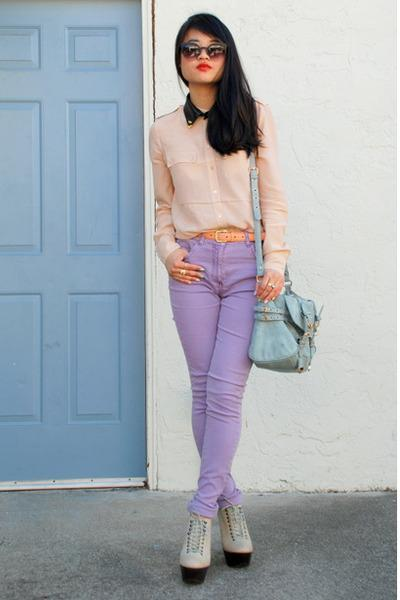bag: (238, 156, 322, 373)
pants: (168, 232, 273, 514)
shirt: (144, 93, 290, 275)
shoe: (180, 494, 255, 585)
